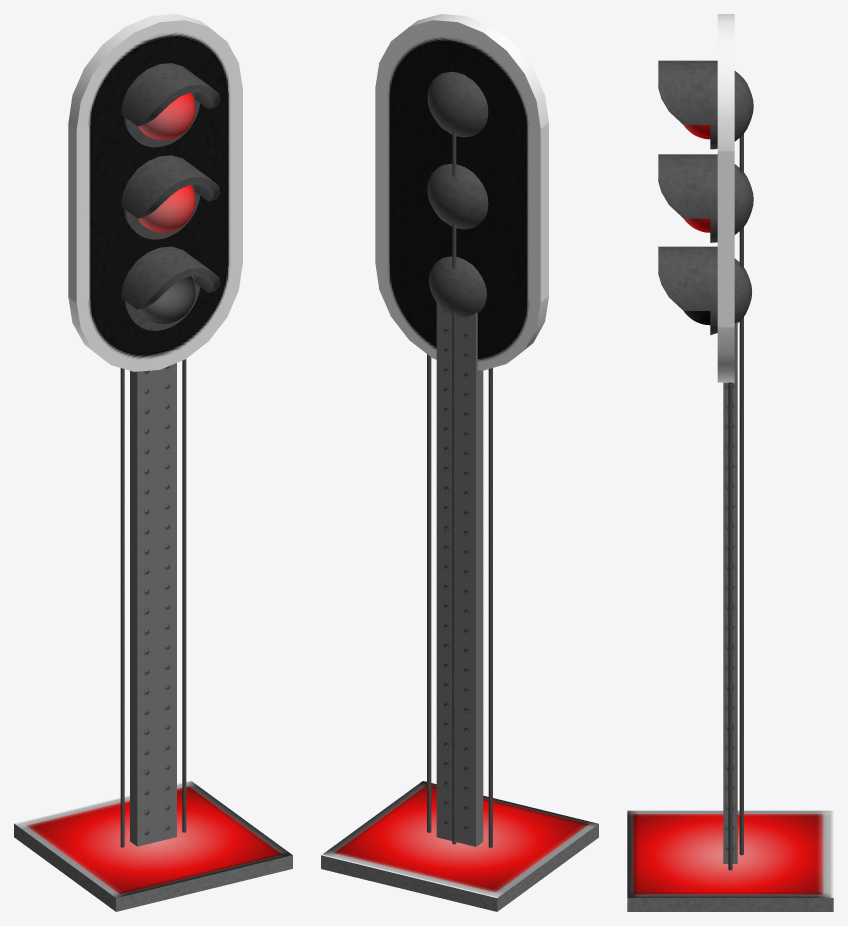
File: traffic_light.obj
The picture shows the model from 3 angles, left to right: view 1: azimuth 30°, elevation 25°; view 2: azimuth 150°, elevation 25°; view 3: azimuth 270°, elevation 25°; orthographic projection.
Parts seen in each view (by area): view 1: polySurface1, pCube3, pCube5, group3 pasted__pPipe1, group4 pasted__pPipe1, pPipe1, pCylinder1, pasted__pasted__pCylinder1 pasted__group2 group5, pasted__pSphere1 group4, pSphere1, pasted__pSphere1 group3, pSphere2 (+2 smaller); view 2: polySurface1, pCube3, pCube5, pasted__pCylinder1 group2, pSphere2, group4 pasted__pSphere2, group3 pasted__pSphere2, pCylinder1, pasted__pasted__pCylinder1 pasted__group2 group5; view 3: pCube5, polySurface1, pCube3, pPipe1, group3 pasted__pPipe1, group4 pasted__pPipe1, pasted__pCylinder1 group2, pasted__pasted__pCylinder1 pasted__group2 group5, pSphere2, group4 pasted__pSphere2, group3 pasted__pSphere2.
Boxes of the visible parts, <box> form: polySurface1: <box>68,14,242,371</box>; pCube3: <box>130,363,176,846</box>; pCube5: <box>14,780,292,911</box>; group3 pasted__pPipe1: <box>121,246,220,309</box>; group4 pasted__pPipe1: <box>121,155,220,218</box>; pPipe1: <box>121,63,220,126</box>; pCylinder1: <box>120,368,124,847</box>; pasted__pasted__pCylinder1 pasted__group2 group5: <box>182,359,186,832</box>; pasted__pSphere1 group4: <box>138,185,195,232</box>; pSphere1: <box>138,93,195,140</box>; pasted__pSphere1 group3: <box>138,276,195,323</box>; pSphere2: <box>124,92,199,147</box>; polySurface1: <box>375,14,548,370</box>; pCube3: <box>436,303,483,846</box>; pCube5: <box>321,781,598,911</box>; pasted__pCylinder1 group2: <box>452,82,456,844</box>; pSphere2: <box>427,71,488,137</box>; group4 pasted__pSphere2: <box>427,163,488,229</box>; group3 pasted__pSphere2: <box>429,256,486,317</box>; pCylinder1: <box>488,368,492,847</box>; pasted__pasted__pCylinder1 pasted__group2 group5: <box>427,354,431,832</box>; pCube5: <box>627,810,833,911</box>; polySurface1: <box>717,14,734,382</box>; pCube3: <box>723,321,737,863</box>; pPipe1: <box>658,60,717,124</box>; group3 pasted__pPipe1: <box>658,246,717,310</box>; group4 pasted__pPipe1: <box>658,154,717,218</box>; pasted__pCylinder1 group2: <box>739,80,743,855</box>; pasted__pasted__pCylinder1 pasted__group2 group5: <box>728,382,732,870</box>; pSphere2: <box>710,71,753,149</box>; group4 pasted__pSphere2: <box>710,164,753,242</box>; group3 pasted__pSphere2: <box>710,258,751,335</box>.
Bounding box in the file's own units: 2 × 9.03 × 2.
1 material, 1 textured.
